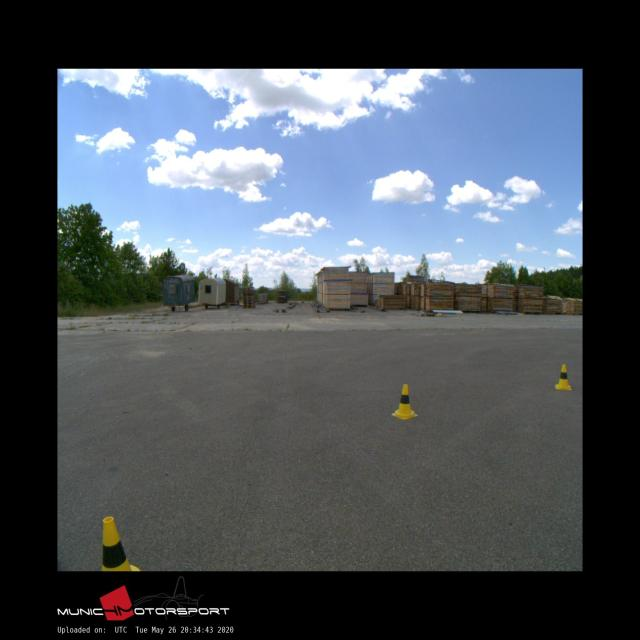yellow_cone: (102, 517, 140, 571), (391, 384, 418, 418), (555, 364, 571, 390)
